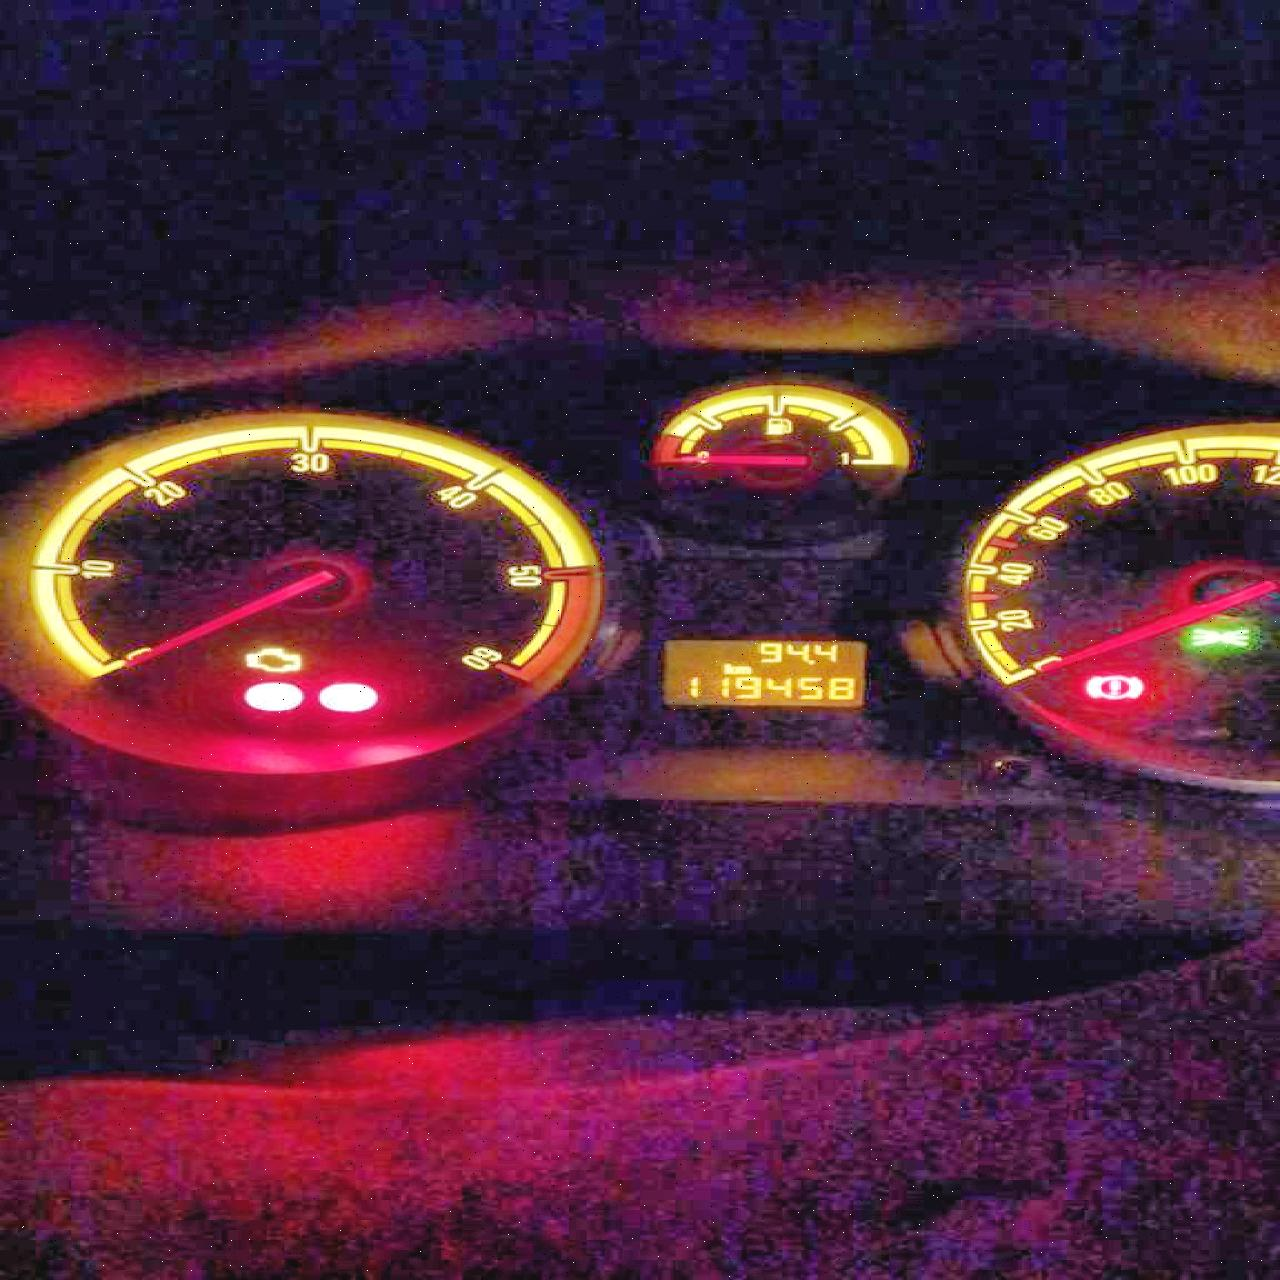-: (806, 658, 816, 664)
1: (686, 675, 698, 697), (718, 675, 729, 697)
4: (762, 676, 791, 699), (811, 642, 838, 662), (782, 642, 809, 662)
5: (796, 675, 822, 699)
8: (824, 675, 854, 700)
9: (731, 675, 760, 699), (756, 642, 782, 662)
X: (720, 661, 733, 674), (733, 664, 751, 672)
odometer: (660, 636, 864, 706)
